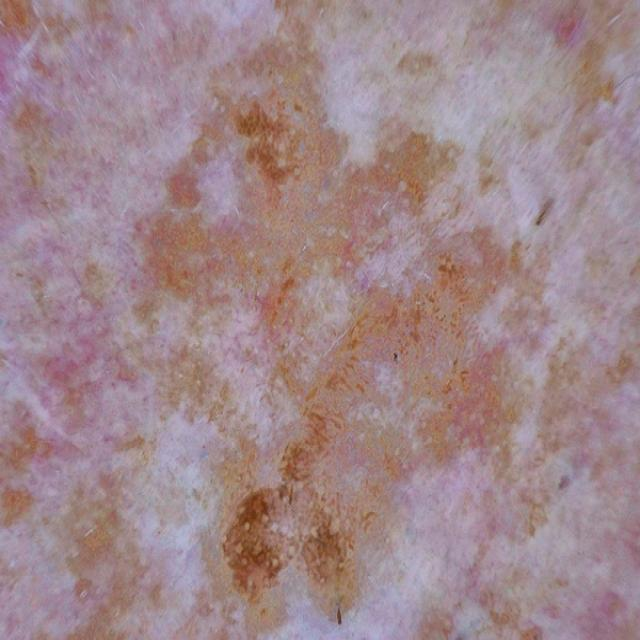Benign-Keratosis-like-Lesions-BKL-: (31, 27, 587, 628)
